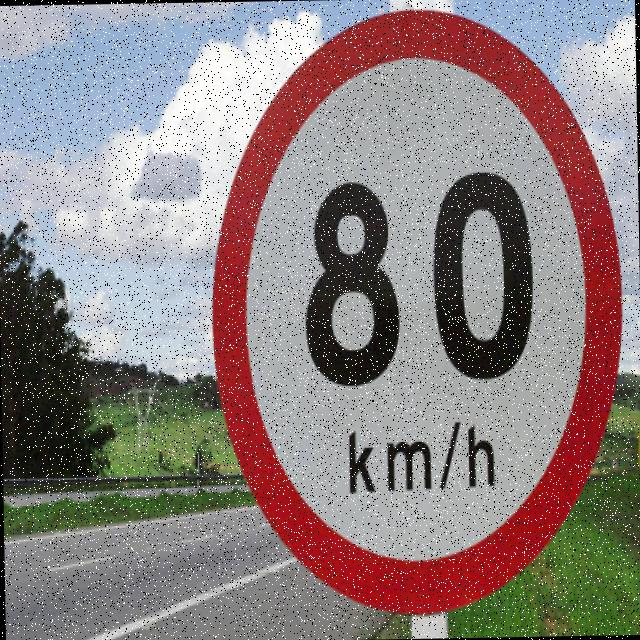speed_limit_80: (200, 0, 631, 626)
